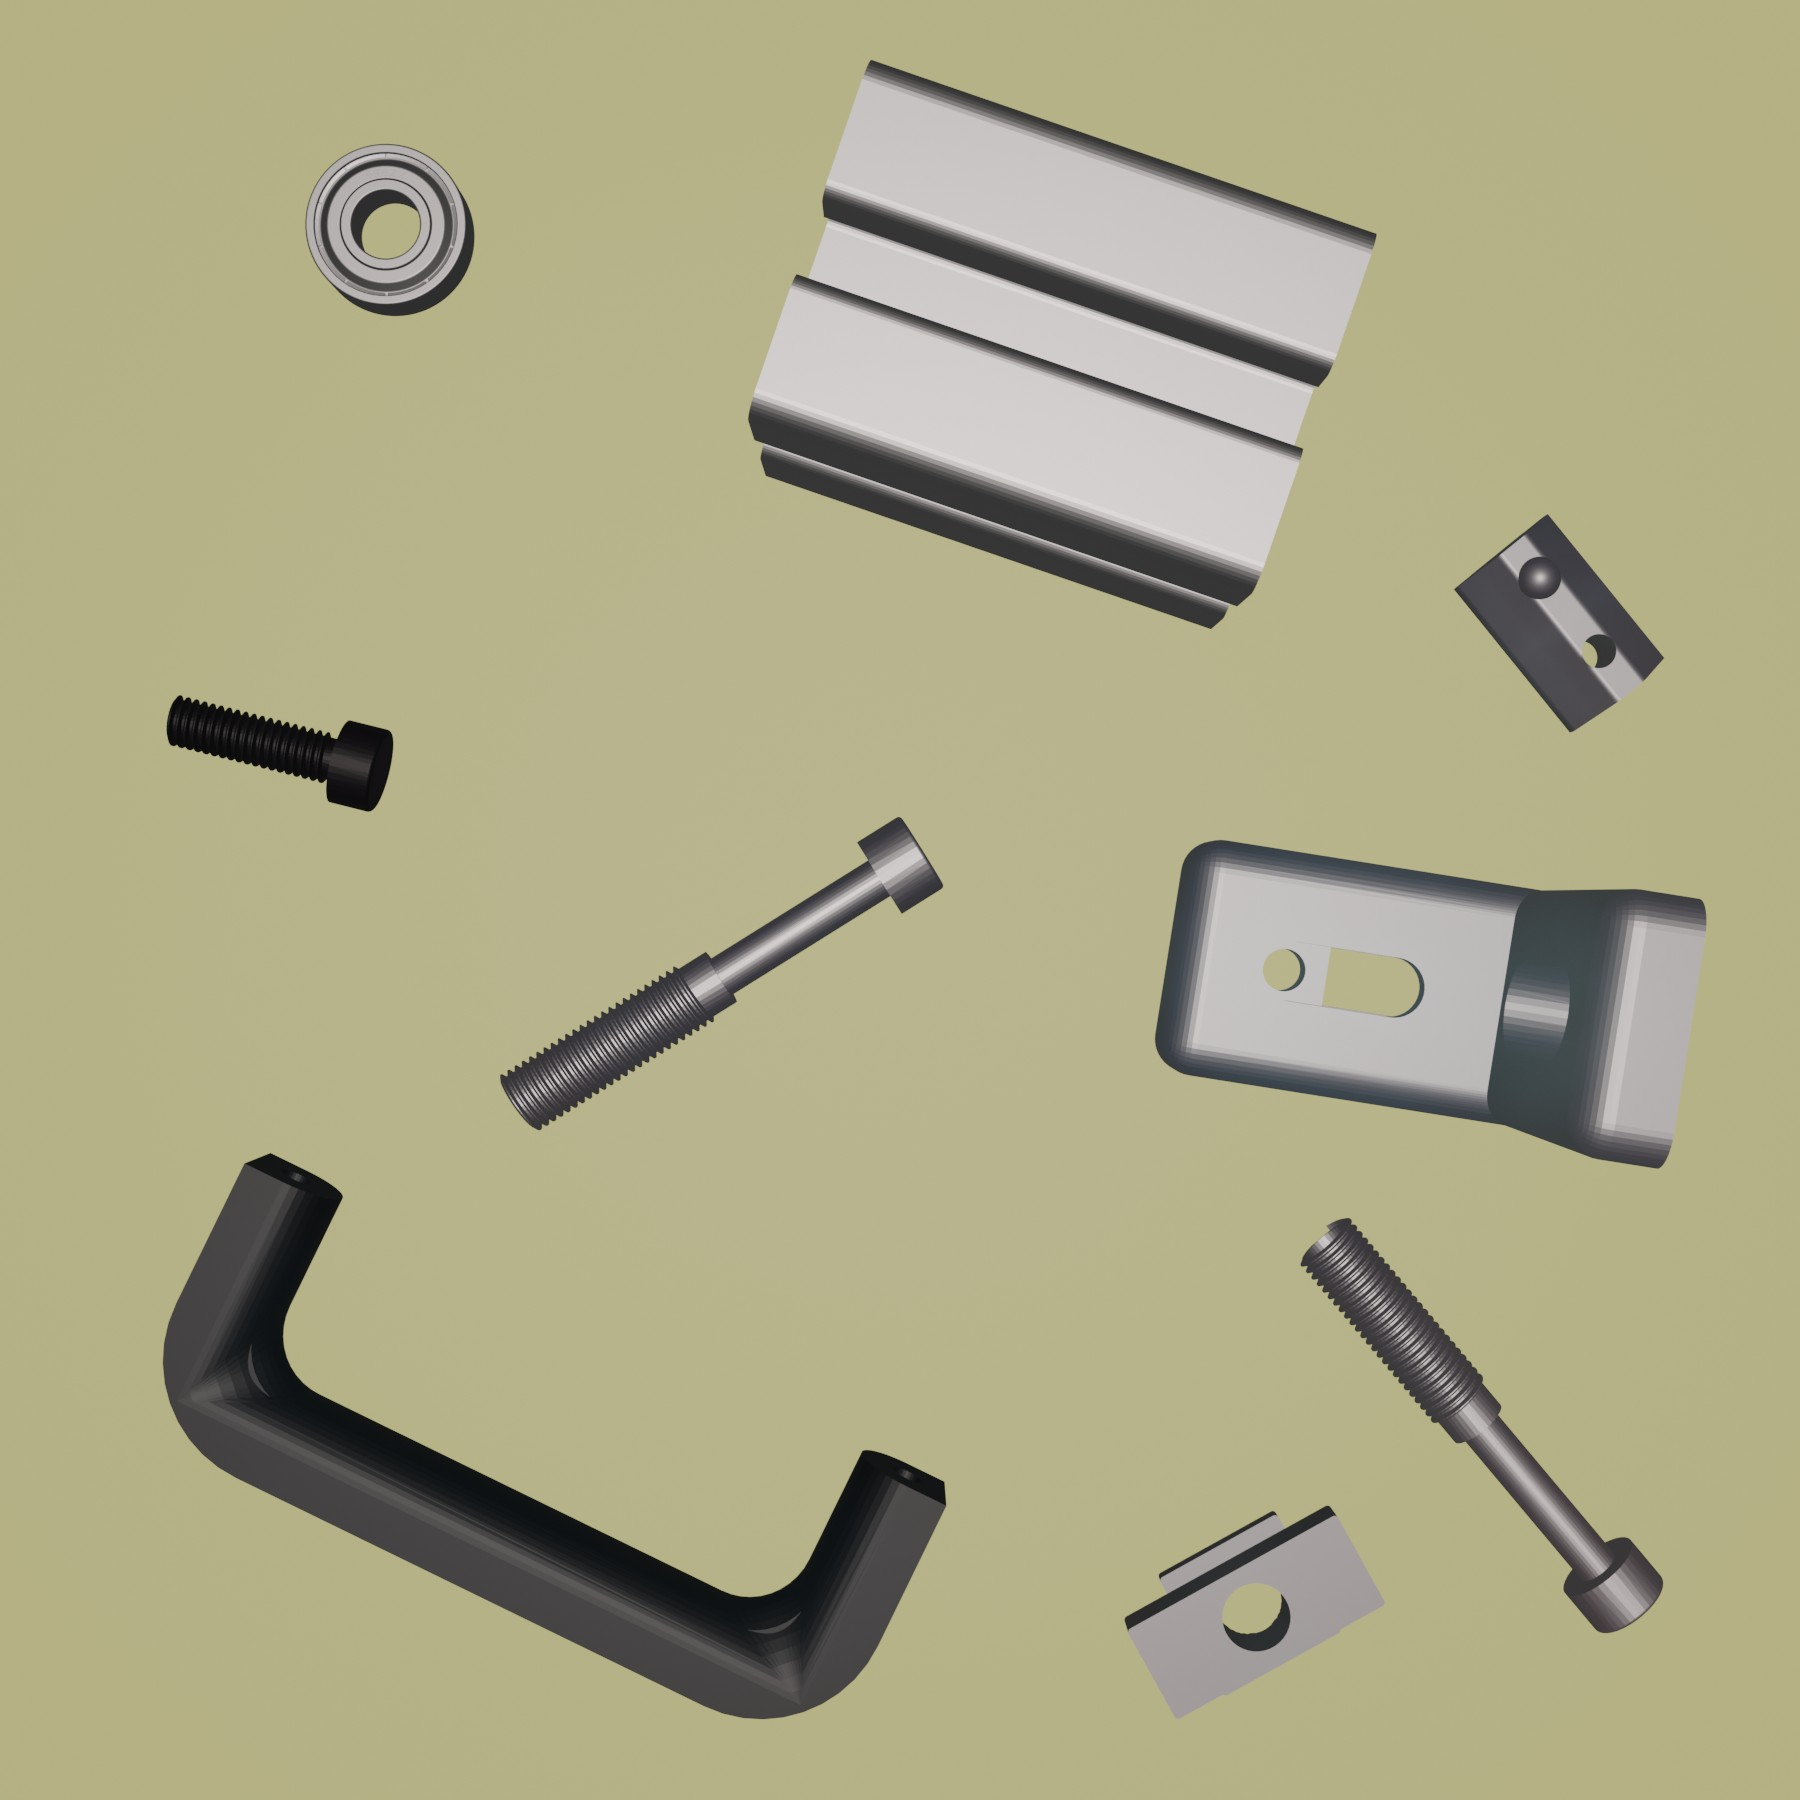Aluminium Extension: (747, 54, 1381, 635)
Ball Bearing: (298, 138, 476, 318)
Multiwinkel: (1152, 836, 1709, 1172)
Pull Handle: (158, 1151, 948, 1723)
Shoulder Socket Head Cap Screw: (1297, 1213, 1665, 1638), (496, 813, 948, 1132)
Socket Head Cap Screw: (162, 696, 394, 813)
T Nut Square: (1121, 1498, 1390, 1719)
T Spring Nut: (1451, 511, 1665, 732)
